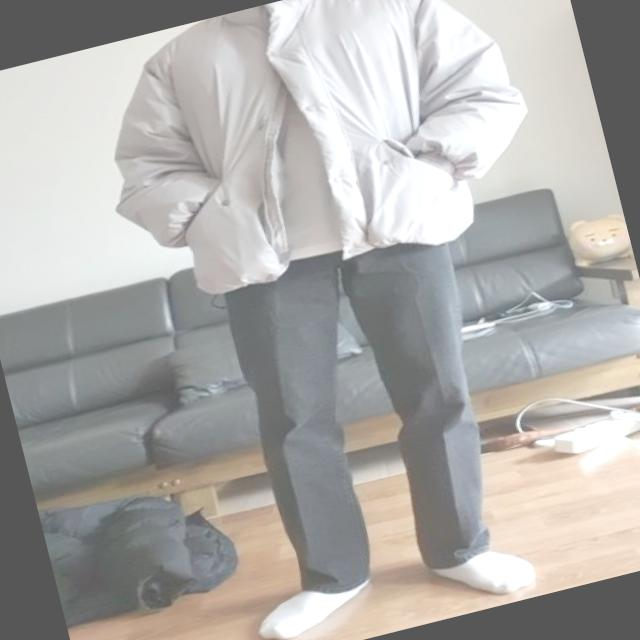padding: (77, 0, 552, 318)
slacks: (216, 216, 523, 604)
